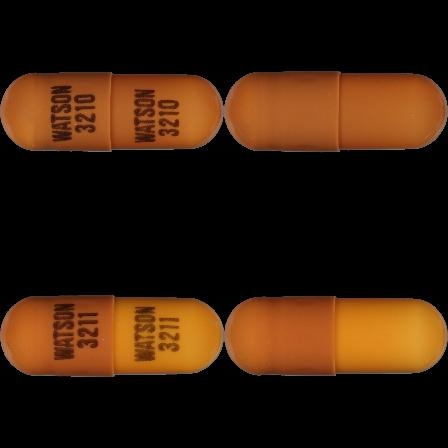63739-578: (0, 0, 224, 224)
